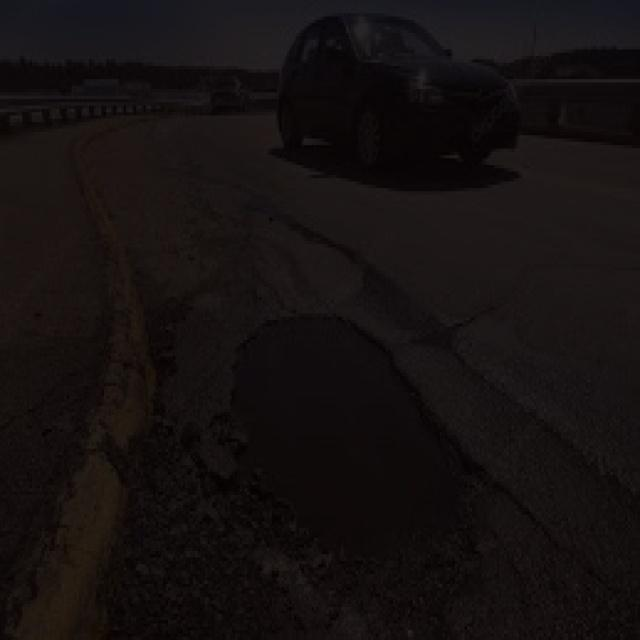Pothole: (204, 305, 490, 587)
